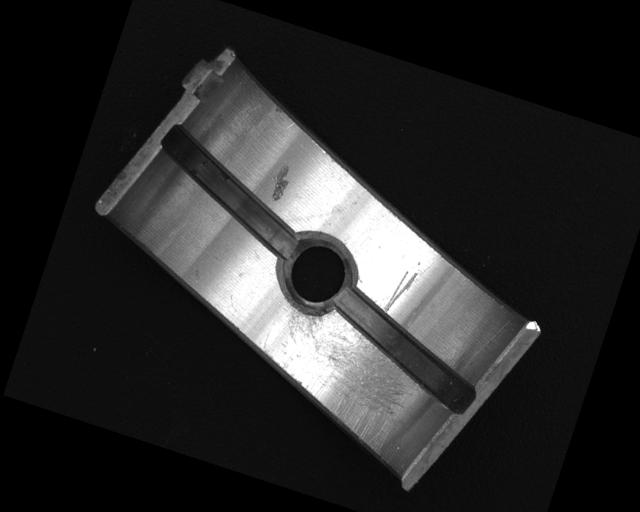bruise: (264, 161, 295, 204)
gap: (138, 122, 325, 263), (317, 286, 494, 416)
hole: (269, 227, 363, 320)
nick: (383, 265, 419, 319)
scratch: (244, 296, 426, 461)
